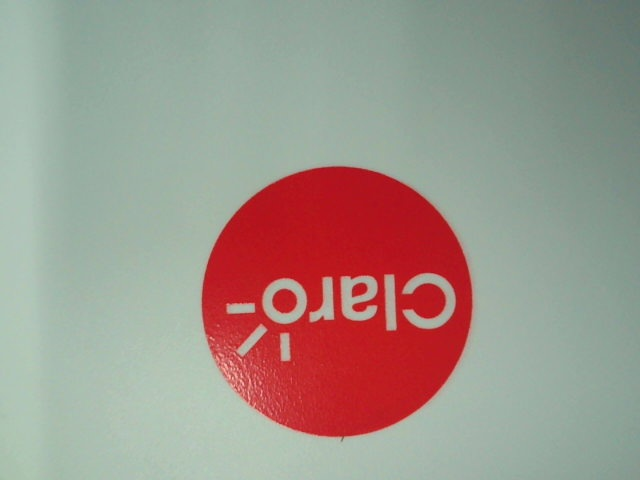BC_ClaorRed: (179, 162, 490, 439)
